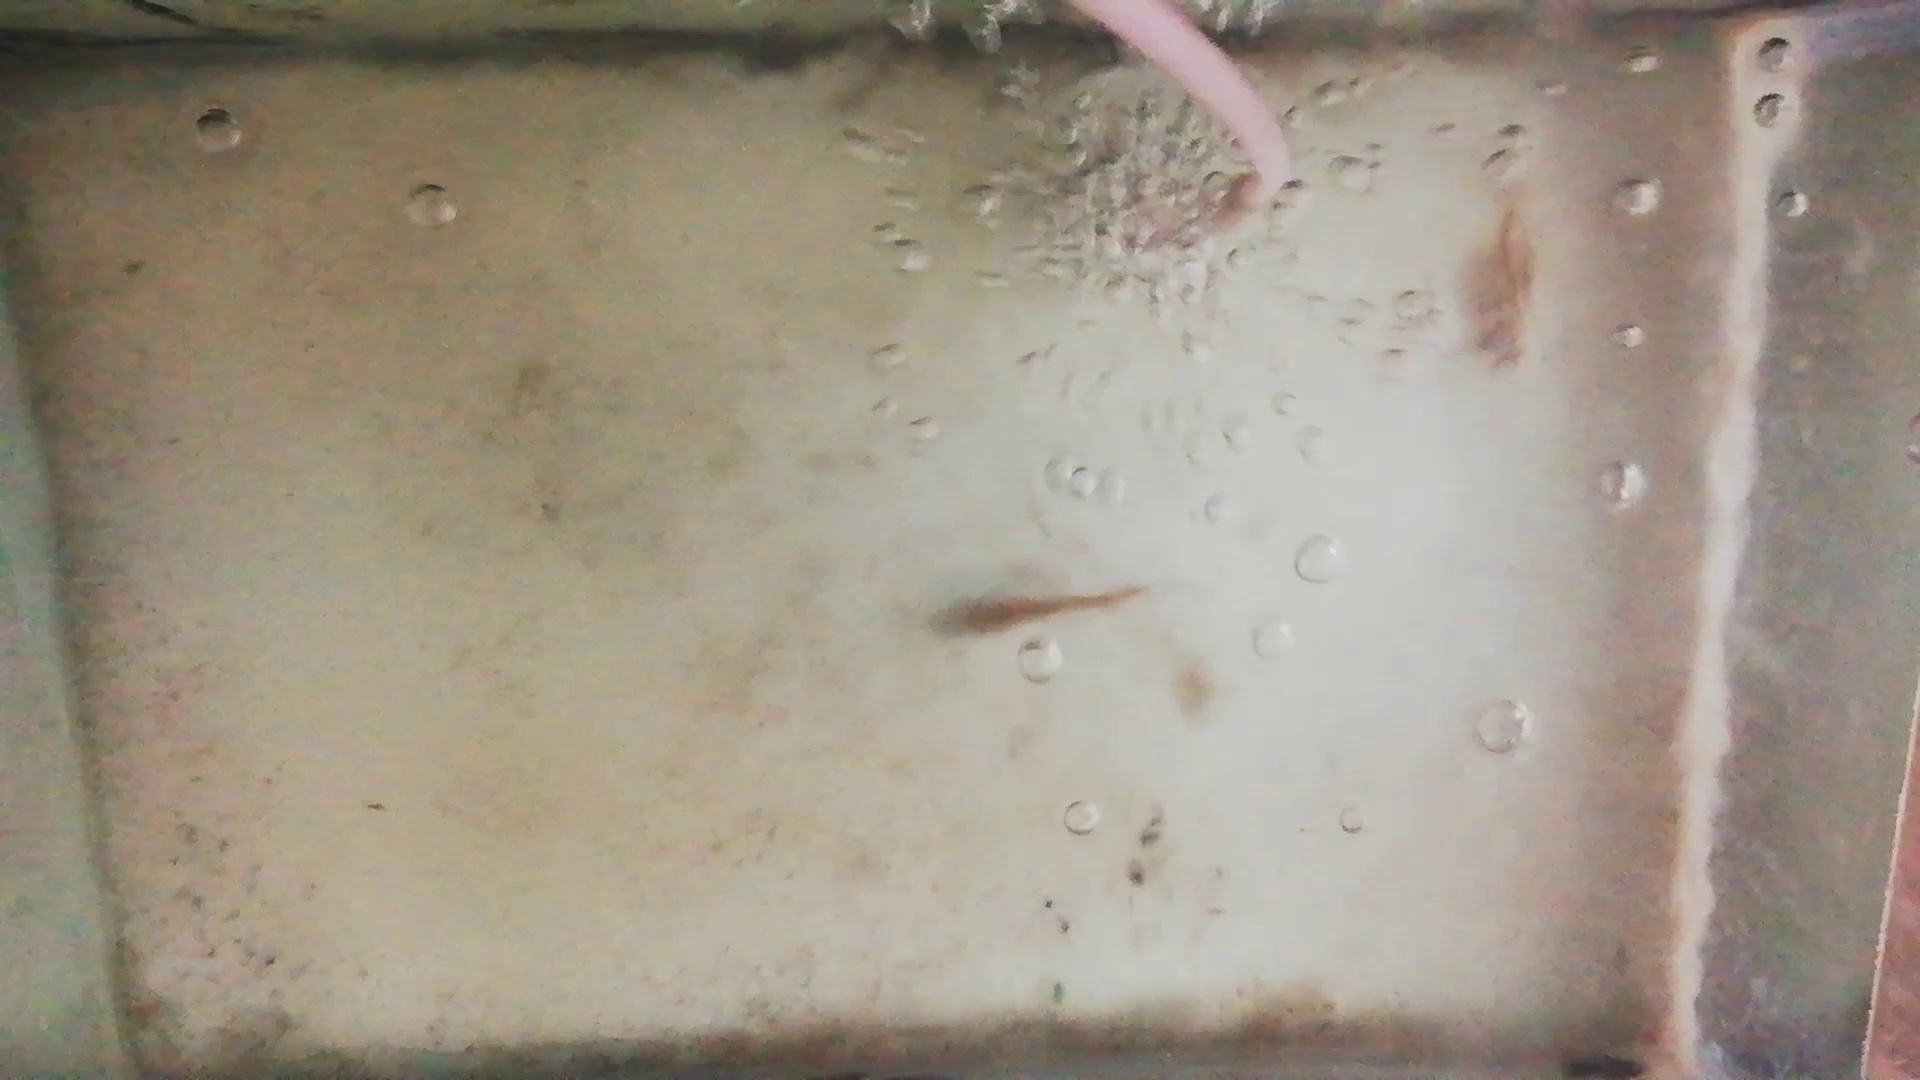fish: (927, 587, 1149, 636), (1480, 186, 1536, 363)
